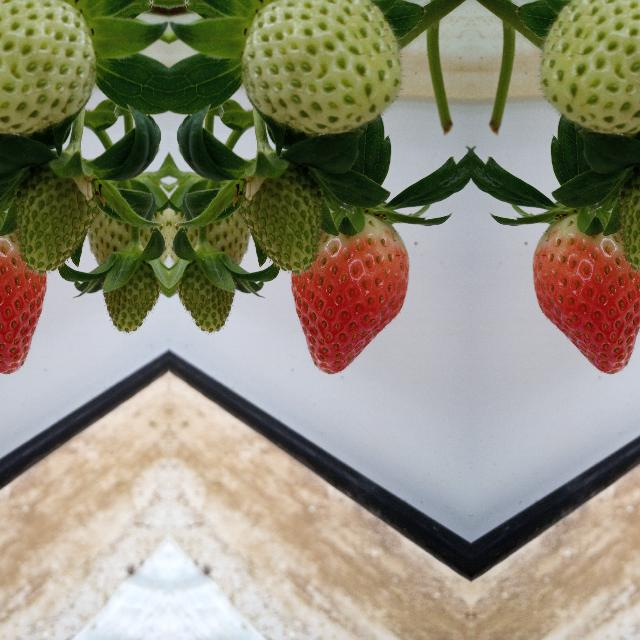Health_100: (288, 212, 409, 376), (531, 212, 640, 376), (0, 212, 47, 376)
Health_25: (242, 3, 402, 139), (538, 3, 640, 139), (0, 3, 94, 139), (168, 238, 244, 348), (92, 238, 168, 348), (172, 178, 250, 270), (86, 178, 164, 270)
